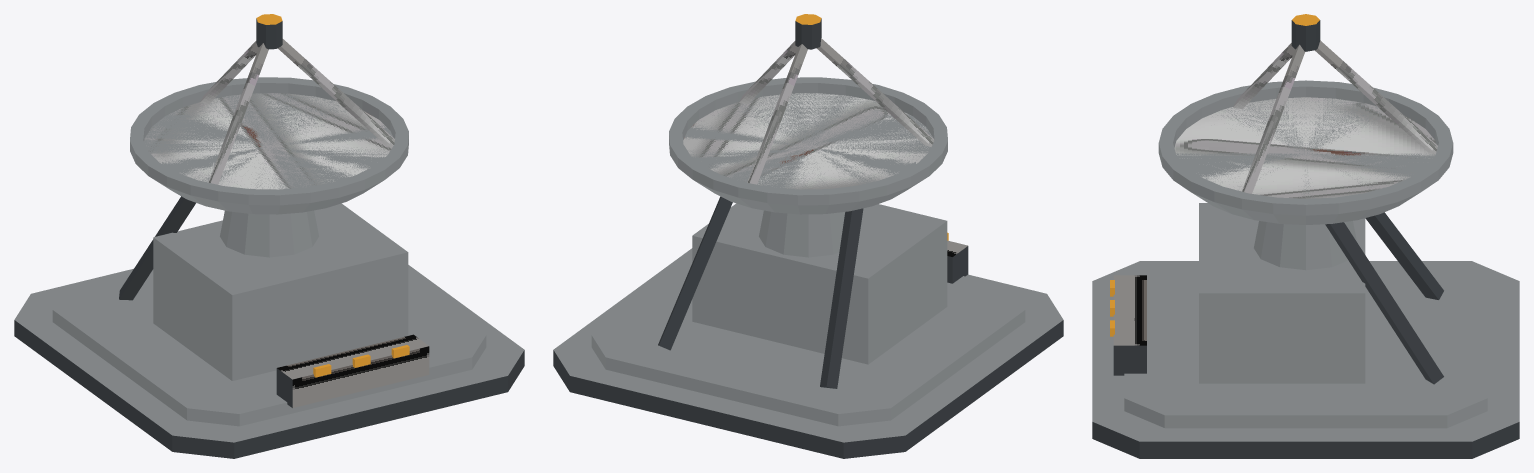
The model's file is Building_AncientUplink.glb.
3 renders of one model, left to right at view 1: azimuth 30°, elevation 25°; view 2: azimuth 150°, elevation 25°; view 3: azimuth 270°, elevation 25°, orthographic. The views are drawn at different scales.
Visible parts, largest first — view 1: AncientUplink; view 2: AncientUplink; view 3: AncientUplink.
Part boxes in pixels (x1,y1,x2,y2): AncientUplink: [14, 14, 524, 458]; AncientUplink: [553, 14, 1063, 458]; AncientUplink: [1092, 14, 1519, 458].
Bounding box in the file's own units: 1.8 × 1.62 × 1.8.
1 material, 1 textured.
